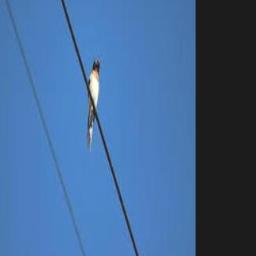Swallow: (86, 58, 100, 151)
